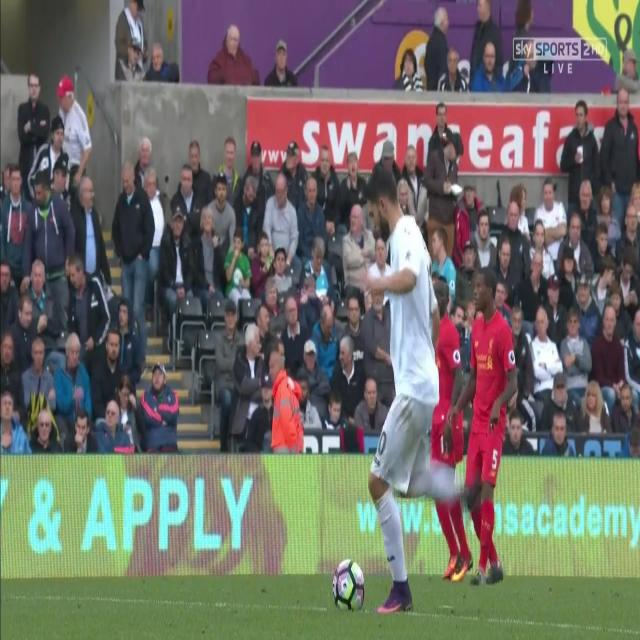Ball: (330, 556, 368, 615)
Player: (366, 154, 436, 618), (465, 270, 519, 590), (431, 277, 474, 579)
